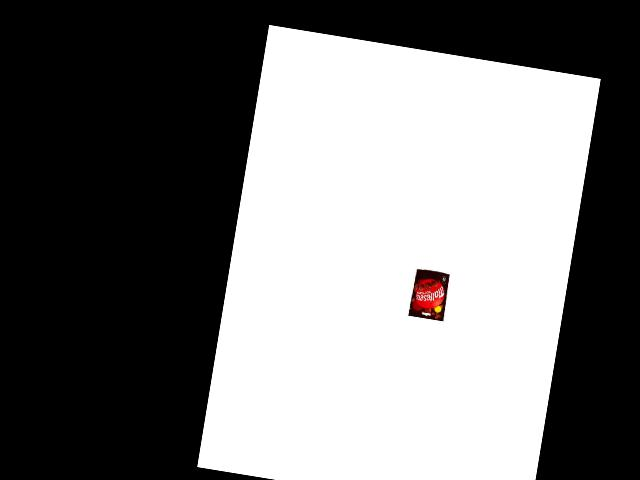chocolate: (407, 267, 451, 322)
